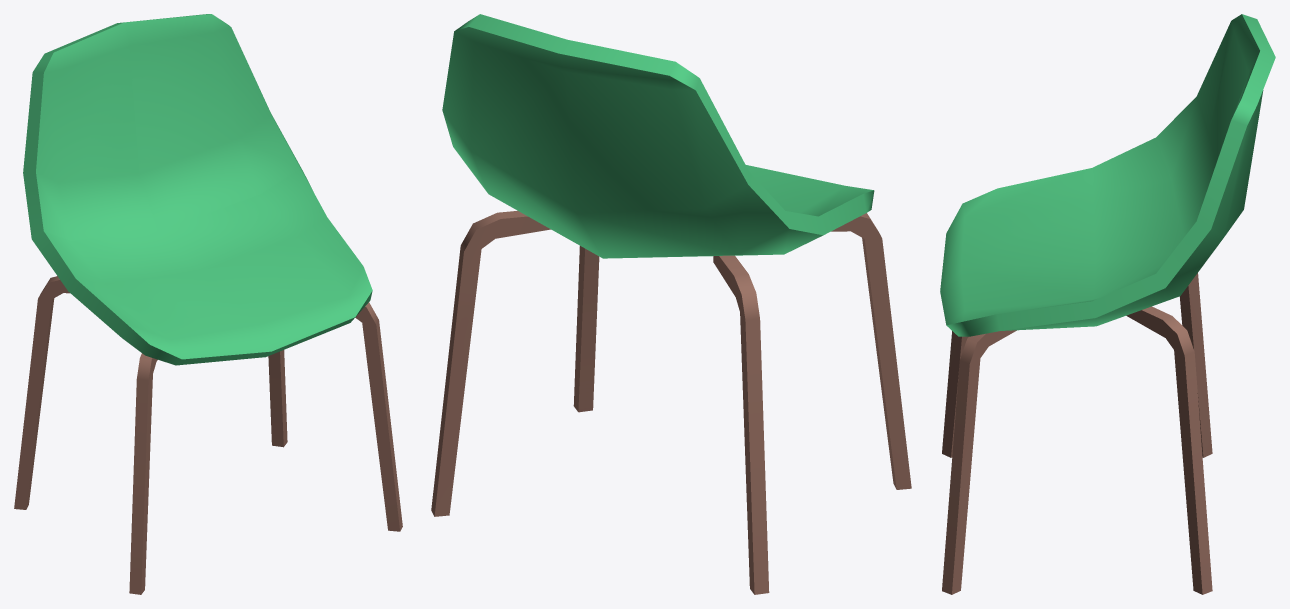
The model's file is kitchen_chair_024.glb.
The picture shows the model from 3 angles, left to right: view 1: azimuth 30°, elevation 25°; view 2: azimuth 150°, elevation 25°; view 3: azimuth 270°, elevation 25°; orthographic projection. The views are drawn at different scales.
Visible parts, largest first — view 1: kitchen_chair_024; view 2: kitchen_chair_024; view 3: kitchen_chair_024.
Part boxes in pixels (x1=…): kitchen_chair_024: x1=14, y1=14, x2=402, y2=594; kitchen_chair_024: x1=431, y1=14, x2=911, y2=594; kitchen_chair_024: x1=940, y1=14, x2=1275, y2=594.
Bounding box in the file's own units: 0.5459 × 0.8273 × 0.5338.
Materials: 1 (1 with a texture image).
